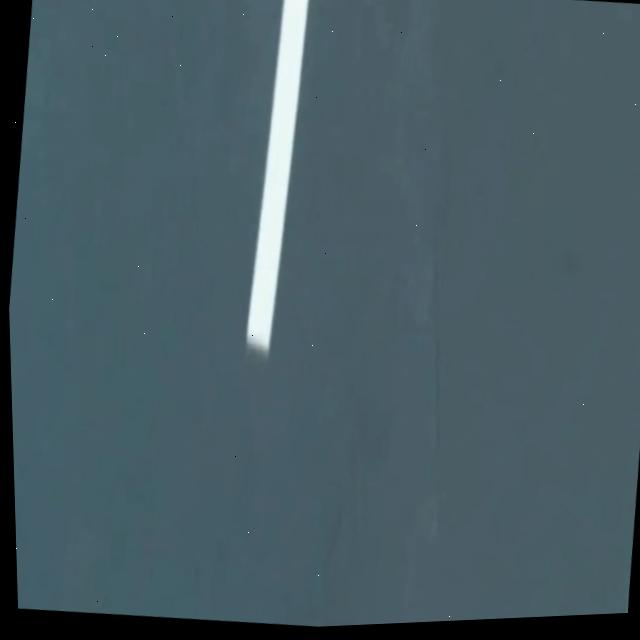center: (245, 0, 307, 353)
